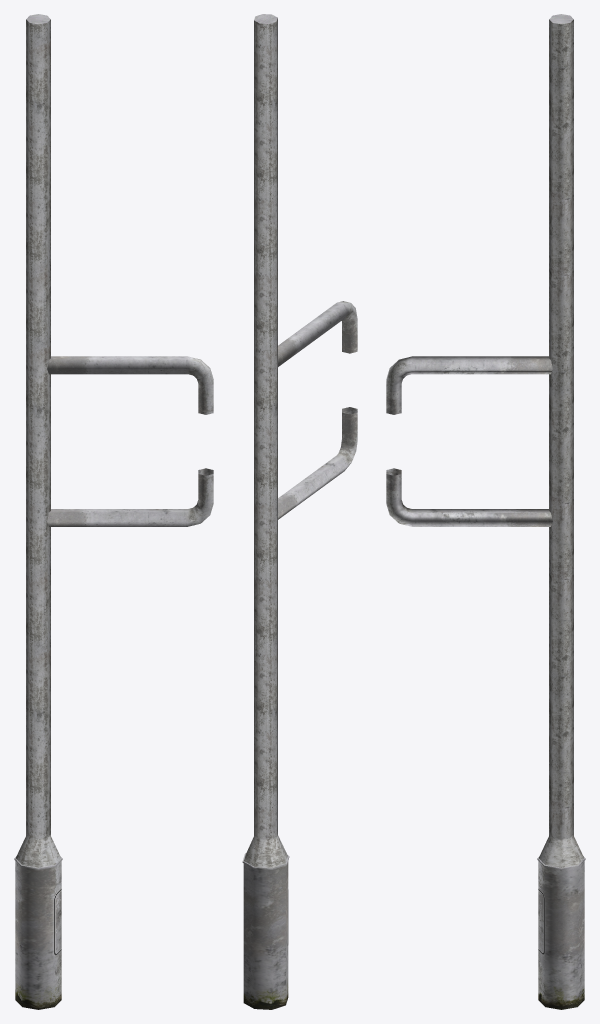
Rendered from pedestrian_lamp_column.fbx.
3 renders of one model, left to right at view 1: azimuth 90°, elevation 25°; view 2: azimuth 150°, elevation 25°; view 3: azimuth 270°, elevation 25°, orthographic.
Parts seen in each view (by area): view 1: pedestrian_lamp_column; view 2: pedestrian_lamp_column; view 3: pedestrian_lamp_column.
Part boxes in pixels (x1,y1,x2,y2): pedestrian_lamp_column: (14, 14, 213, 1009); pedestrian_lamp_column: (242, 14, 357, 1009); pedestrian_lamp_column: (386, 14, 585, 1009).
Size of the model in its own units: 0.2136 by 4.76 by 0.8782.
